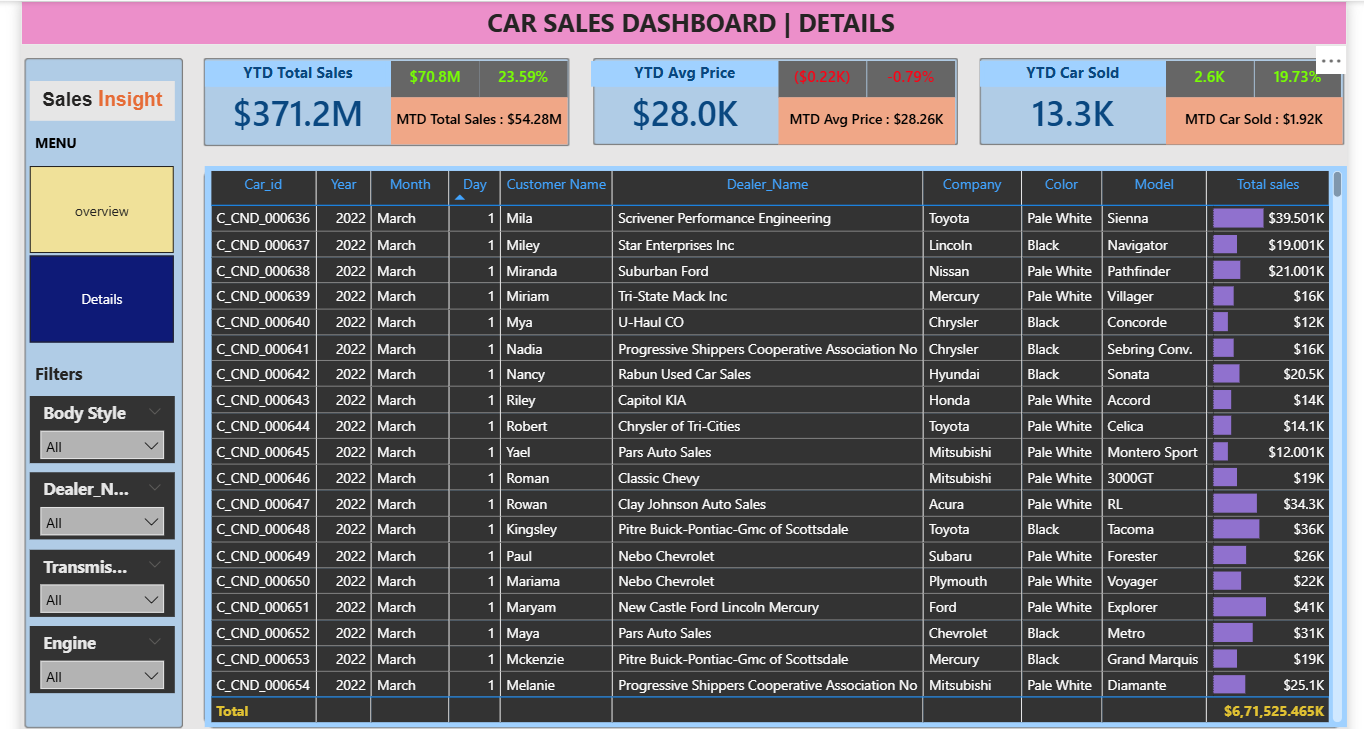

This screenshot's page, from the dashboard's own definition file:
{"tool":"powerbi","page":{"name":"Details","canvas":[1280,720],"ordinal":1},"visuals":[{"type":"card","title":"YTD Total Sales","fields":{"Values":["car_data.YTD Total sales"]},"box":[177.3,57.9,179.8,80.8],"z":0},{"type":"card","fields":{"Values":["car_data.Sales Difference"]},"box":[357.1,57.9,85.7,35],"z":1000},{"type":"card","fields":{"Values":["car_data.YOY Sales Growth"]},"box":[442.8,57.9,84.5,35],"z":2000},{"type":"card","fields":{"Values":["car_data.MTTD KPI"]},"box":[357.1,92.9,170.1,45.8],"z":3000},{"type":"card","title":"YTD Avg Price","fields":{"Values":["car_data.YTD Avg Price"]},"box":[550.1,57.9,181,80.8],"z":4000},{"type":"card","fields":{"Values":["car_data.Avg Price Diff"]},"box":[731.1,57.9,84.5,35],"z":5000},{"type":"card","fields":{"Values":["car_data.YOY Avg Price Growth"]},"box":[816.8,57.9,84.5,35],"z":6000},{"type":"card","fields":{"Values":["car_data.MTD Avg Price KPI"]},"box":[731.1,92.9,170.1,45.8],"z":7000},{"type":"card","title":"YTD Car Sold","fields":{"Values":["car_data.YTD Car Sold"]},"box":[925.3,57.9,179.8,80.8],"z":8000},{"type":"card","fields":{"Values":["car_data.Car Sold Diff"]},"box":[1105.1,57.9,84.5,35],"z":9000},{"type":"card","fields":{"Values":["car_data.YOY Car sold Growth"]},"box":[1190.8,57.9,83.2,35],"z":10000},{"type":"card","fields":{"Values":["car_data.MTD Car Sold KPI"]},"box":[1105.1,92.9,170.1,45.8],"z":11000},{"type":"textbox","box":[0,0,1280,42.2],"z":12000},{"type":"slicer","fields":{"Values":["car_data.Body Style"]},"box":[8.4,381.2,139.9,65.1],"z":13000},{"type":"slicer","fields":{"Values":["car_data.Dealer_Name"]},"box":[8.4,454.8,139.9,65.1],"z":14000},{"type":"slicer","fields":{"Values":["car_data.Transmission"]},"box":[8.4,529.6,139.9,65.1],"z":15000},{"type":"slicer","fields":{"Values":["car_data.Engine"]},"box":[8.4,603.2,139.9,65.1],"z":16000},{"type":"tableEx","fields":{"Values":["car_data.Car_id","Calendar Table.Date.Variation.Date Hierarchy.Year","Calendar Table.Date.Variation.Date Hierarchy.Month","Calendar Table.Date.Variation.Date Hierarchy.Day","car_data.Customer Name","car_data.Dealer_Name","car_data.Company","car_data.Color","car_data.Model","Sum(car_data.Price ($))"]},"box":[177.3,159.3,1102.7,541.7],"z":17000},{"type":"textbox","box":[8.4,123.1,89.3,31.4],"z":18000},{"type":"pageNavigator","box":[8.4,159.3,139.9,170.1],"z":19000},{"type":"textbox","box":[8.4,343.8,89.3,31.4],"z":20000},{"type":"textbox","box":[8.4,77.2,139.9,38.6],"z":21000}]}

Visuals, with their boxes on the page's 1280x720 design canvas (x1, y1, x2, y2). These are canvas units, not pixel positions in the 1364x729 screenshot, which may show the page scaled, cropped or inside an application window:
"YTD Total Sales" card: crop(177, 58, 357, 139)
card - car_data.Sales Difference: crop(357, 58, 443, 93)
card - car_data.YOY Sales Growth: crop(443, 58, 527, 93)
card - car_data.MTTD KPI: crop(357, 93, 527, 139)
"YTD Avg Price" card: crop(550, 58, 731, 139)
card - car_data.Avg Price Diff: crop(731, 58, 816, 93)
card - car_data.YOY Avg Price Growth: crop(817, 58, 901, 93)
card - car_data.MTD Avg Price KPI: crop(731, 93, 901, 139)
"YTD Car Sold" card: crop(925, 58, 1105, 139)
card - car_data.Car Sold Diff: crop(1105, 58, 1190, 93)
card - car_data.YOY Car sold Growth: crop(1191, 58, 1274, 93)
card - car_data.MTD Car Sold KPI: crop(1105, 93, 1275, 139)
textbox: crop(0, 0, 1280, 42)
slicer - car_data.Body Style: crop(8, 381, 148, 446)
slicer - car_data.Dealer_Name: crop(8, 455, 148, 520)
slicer - car_data.Transmission: crop(8, 530, 148, 595)
slicer - car_data.Engine: crop(8, 603, 148, 668)
tableEx - car_data.Car_id x Calendar Table.Date.Variation.Date Hierarchy.Year: crop(177, 159, 1280, 701)
textbox: crop(8, 123, 98, 154)
pageNavigator: crop(8, 159, 148, 329)
textbox: crop(8, 344, 98, 375)
textbox: crop(8, 77, 148, 116)
